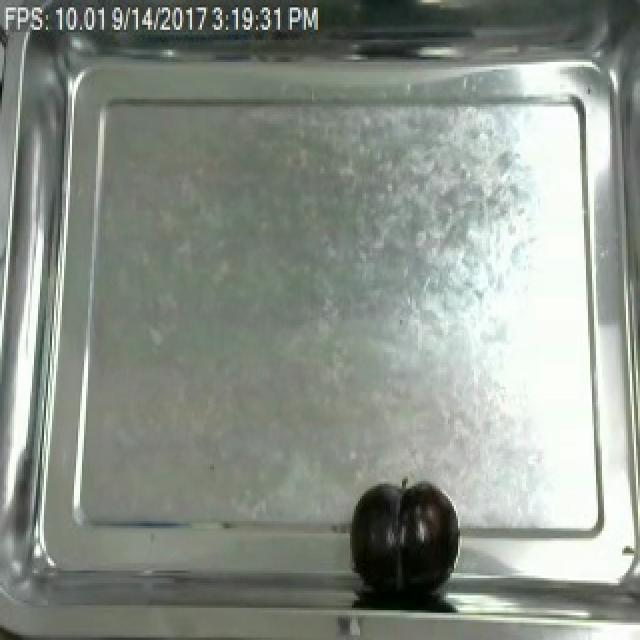Fruit: (346, 474, 464, 605)
